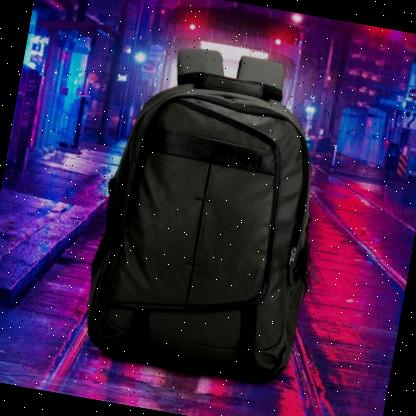bag: (68, 22, 355, 396)
